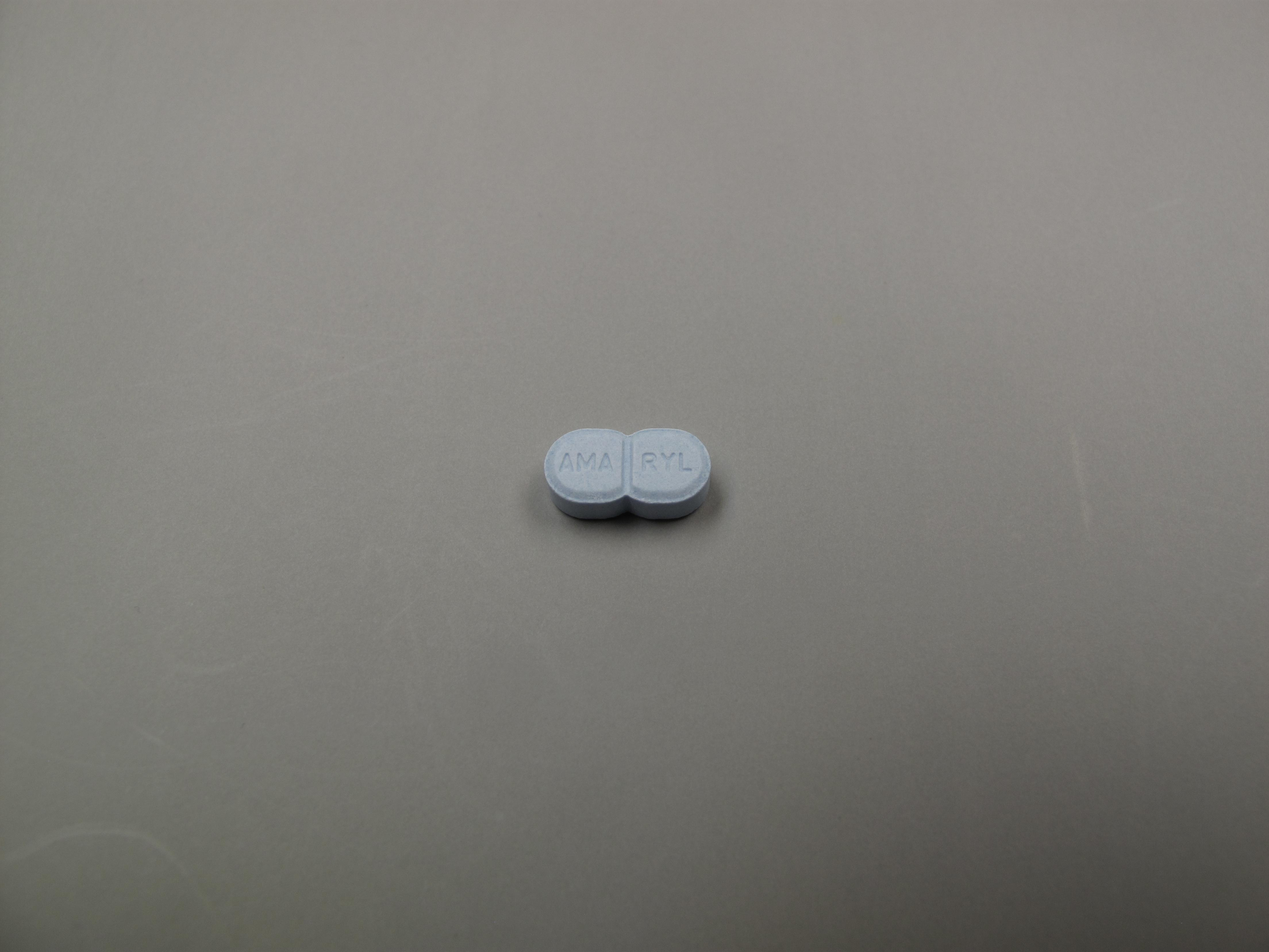Pill: (520, 405, 731, 544)
